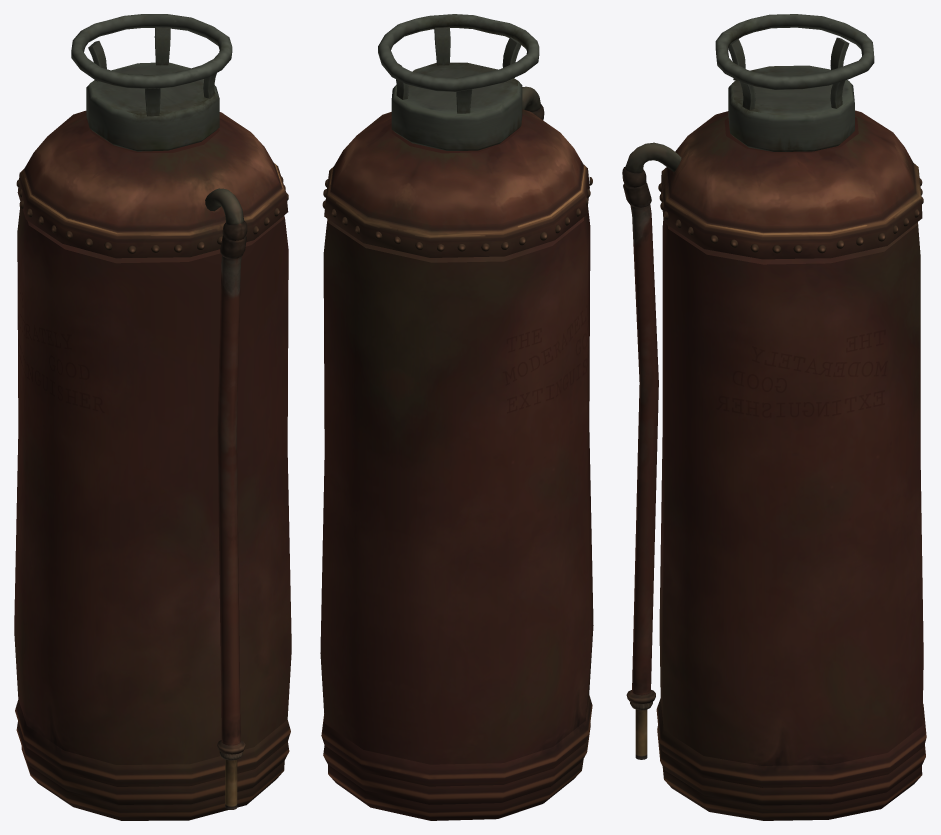
Rendered from FireExtinguisher.fbx.
3 renders of one model, left to right at view 1: azimuth 30°, elevation 25°; view 2: azimuth 150°, elevation 25°; view 3: azimuth 270°, elevation 25°, orthographic.
Visible parts, largest first — view 1: ExtinguisherBody2, ExtinguisherPipething, ExtinguisherTopBit2, HydrantCircular2, HydrantPart4; view 2: ExtinguisherBody2, ExtinguisherTopBit2, HydrantCircular2, HydrantPart3, ExtinguisherPipething; view 3: ExtinguisherBody2, ExtinguisherPipething, ExtinguisherTopBit2, HydrantCircular2.
Boxes of the visible parts, <box> form: ExtinguisherBody2: <box>14,110,291,820</box>; ExtinguisherPipething: <box>205,188,247,809</box>; ExtinguisherTopBit2: <box>86,62,219,151</box>; HydrantCircular2: <box>71,14,232,88</box>; HydrantPart4: <box>154,27,170,65</box>; ExtinguisherBody2: <box>320,109,593,820</box>; ExtinguisherTopBit2: <box>391,62,522,150</box>; HydrantCircular2: <box>378,14,539,91</box>; HydrantPart3: <box>434,27,450,65</box>; ExtinguisherPipething: <box>522,86,544,119</box>; ExtinguisherBody2: <box>656,110,926,820</box>; ExtinguisherPipething: <box>622,142,681,759</box>; ExtinguisherTopBit2: <box>728,65,854,151</box>; HydrantCircular2: <box>715,14,874,89</box>.
Bounding box in the file's own units: 24.65 × 73.56 × 27.98.
